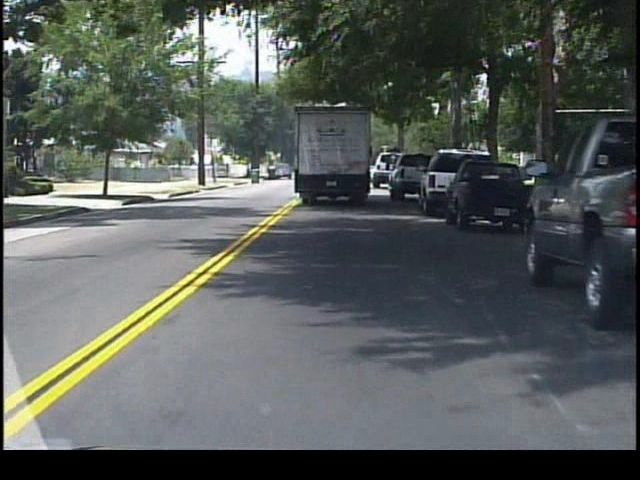person: (227, 163, 230, 180)
